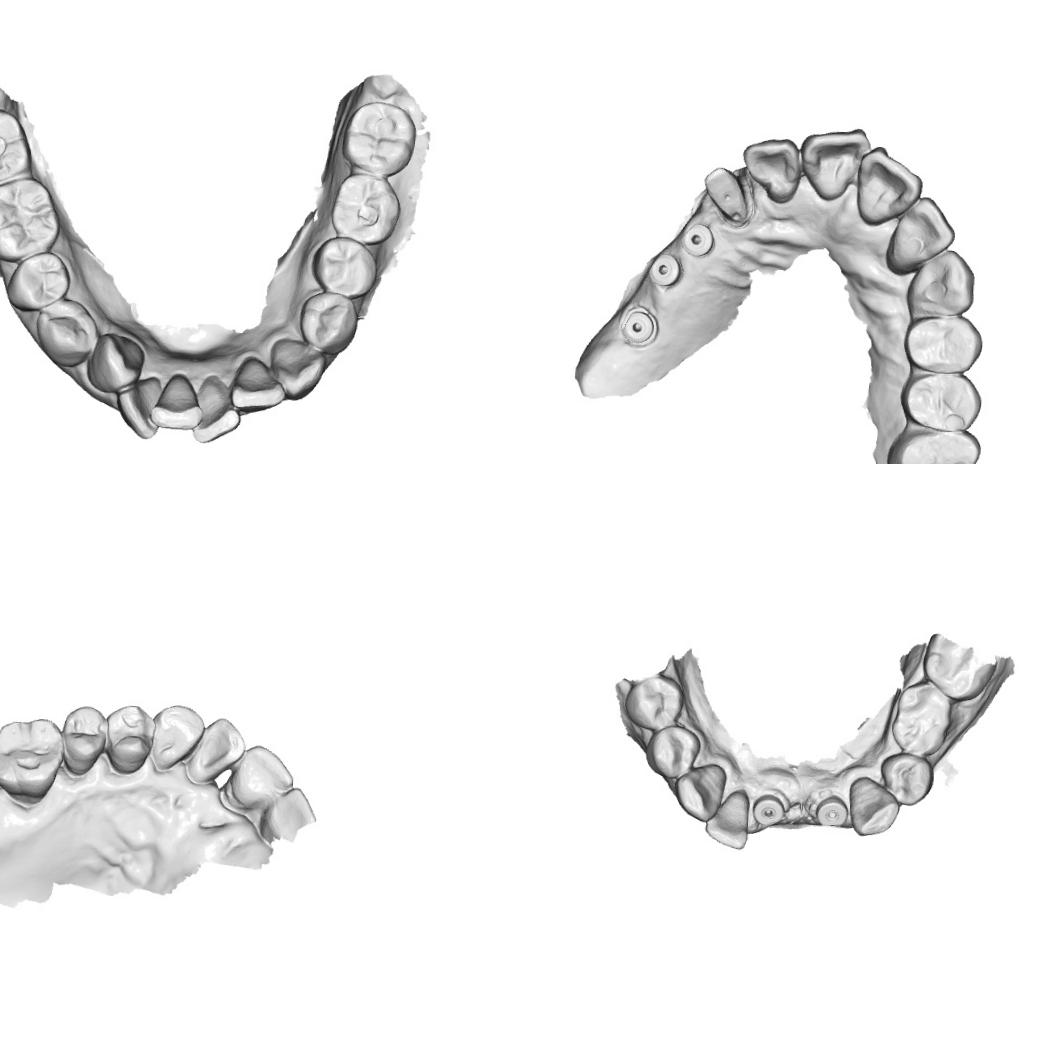canine: (902, 246, 978, 320), (267, 334, 328, 402), (82, 329, 144, 393), (150, 702, 204, 774), (670, 759, 727, 824), (845, 774, 901, 838)
crown: (698, 162, 754, 227)
implant: (614, 307, 660, 346), (648, 250, 685, 287), (812, 794, 851, 829), (682, 220, 716, 260), (750, 791, 784, 827)
incisor: (850, 146, 928, 229), (798, 123, 868, 202), (887, 192, 957, 267), (227, 742, 297, 809), (184, 714, 246, 786), (738, 136, 804, 203), (186, 374, 242, 448), (146, 371, 206, 432), (257, 784, 319, 843), (226, 354, 286, 410), (112, 380, 166, 441), (702, 788, 750, 850)
molar: (0, 713, 65, 806), (340, 99, 418, 175), (326, 169, 402, 245), (0, 175, 65, 263), (919, 632, 998, 704), (888, 678, 956, 758), (883, 424, 986, 464), (0, 104, 36, 192)
premolar: (897, 370, 984, 432), (902, 312, 984, 374), (32, 297, 96, 368), (4, 247, 72, 313), (309, 233, 376, 299), (296, 286, 357, 353), (103, 702, 157, 776), (58, 703, 110, 779), (621, 673, 687, 732), (876, 750, 936, 808), (644, 722, 702, 781)
